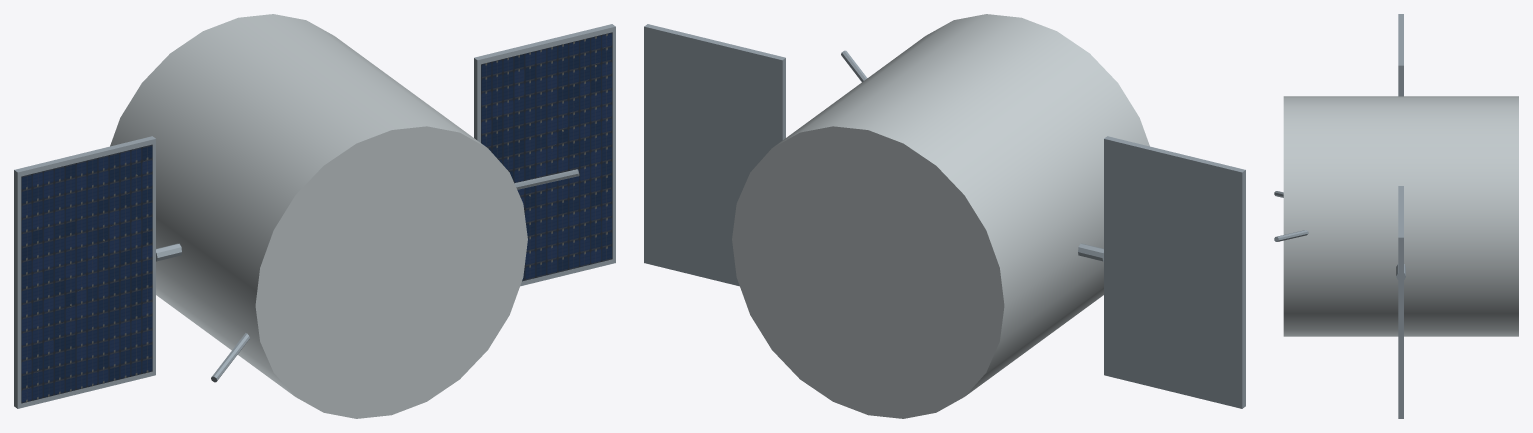
File: ref-n-6-3544.glb
3 views of the same model, side by side, from view 1: azimuth 30°, elevation 25°; view 2: azimuth 150°, elevation 25°; view 3: azimuth 270°, elevation 25° (orthographic). The views are drawn at different scales.
Parts seen in each view (by area): view 1: Spacecraft body, Photovoltaic laminates (×2), Array frame (×2); view 2: Spacecraft body, Array frame (×2); view 3: Spacecraft body, Array frame (×2).
Part boxes in pixels (box(x1,y1,x2,y2)): Spacecraft body: box(110, 14, 527, 418); Photovoltaic laminates (×2): box(21, 32, 612, 403); Array frame (×2): box(14, 24, 615, 408); Spacecraft body: box(732, 14, 1149, 418); Array frame (×2): box(644, 24, 1245, 408); Spacecraft body: box(1283, 96, 1518, 336); Array frame (×2): box(1398, 14, 1403, 418).
Size of the model in its own units: 9 by 4.1 by 4.16.
Materials: 3 (1 with a texture image).
